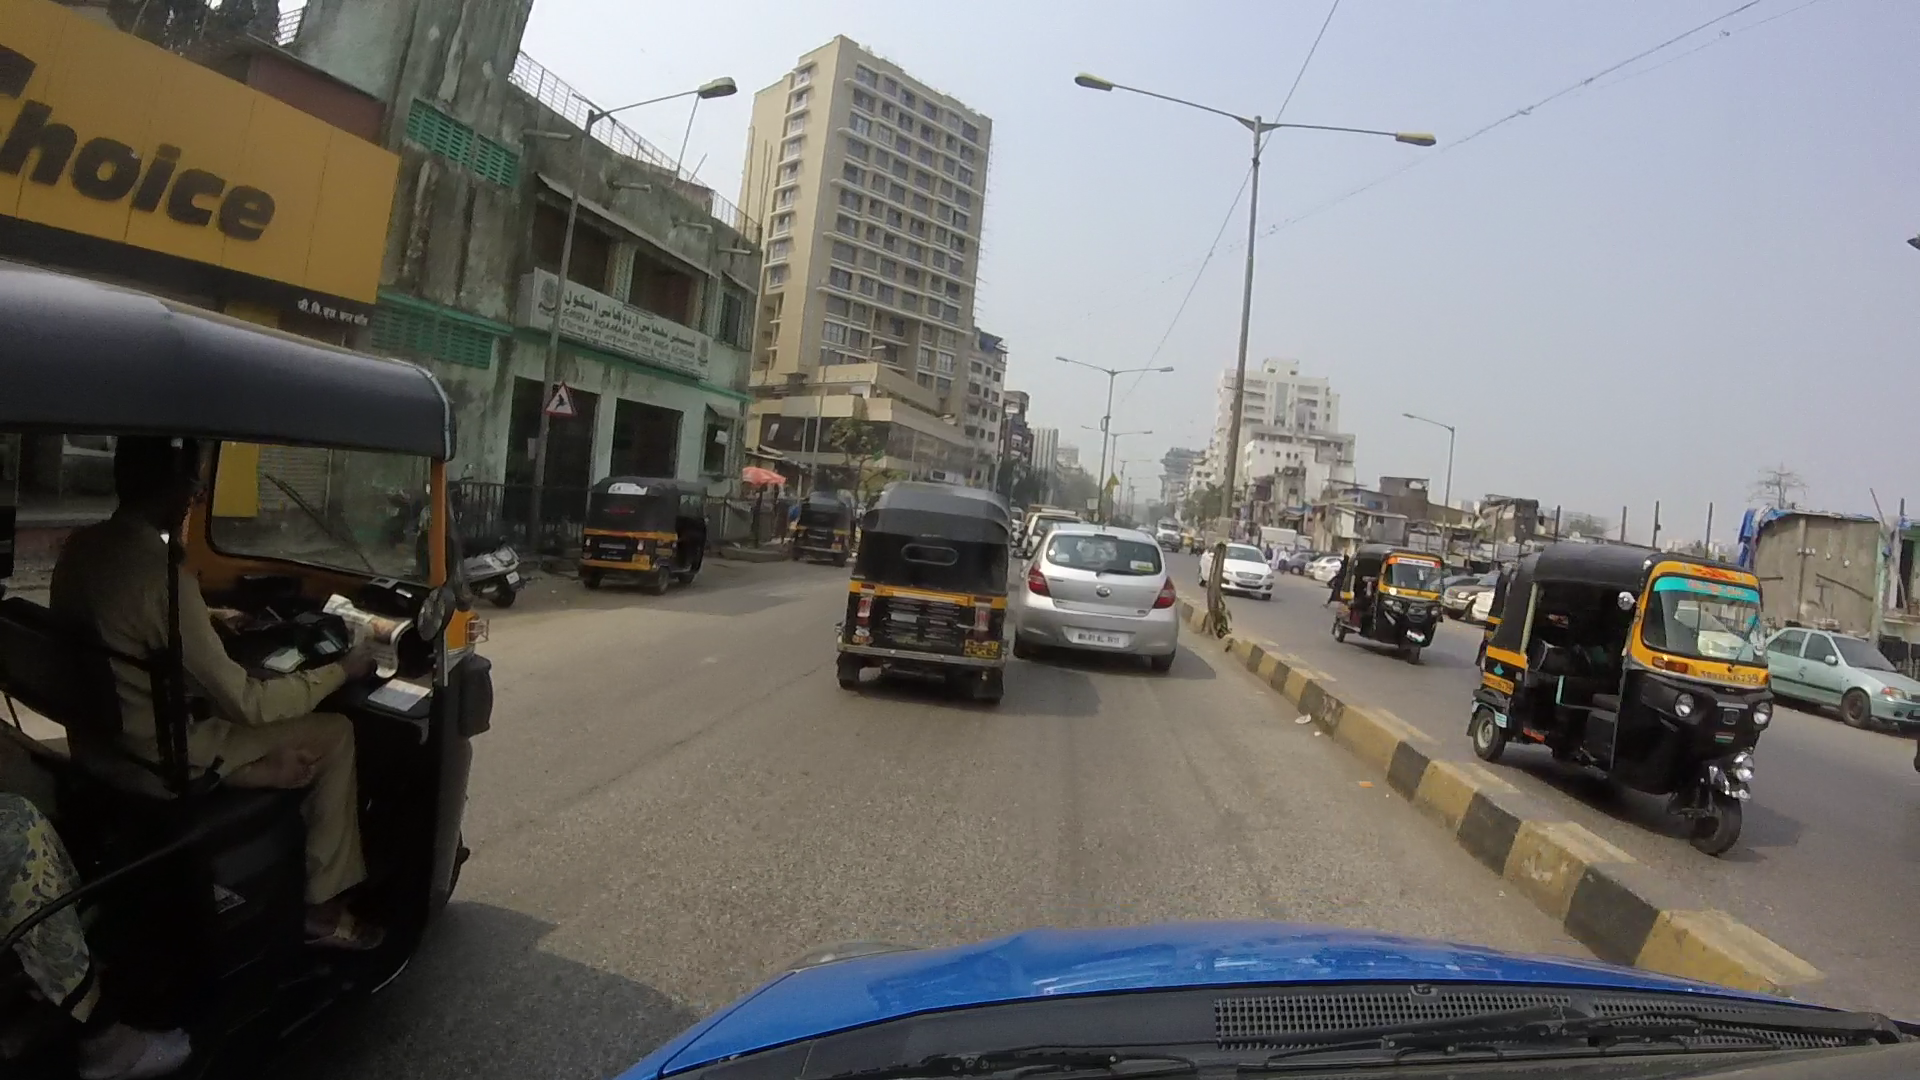car: (1019, 520, 1182, 669), (1763, 624, 1920, 727), (1199, 535, 1275, 597)
rickshaw: (25, 272, 465, 1065), (1478, 533, 1753, 860), (843, 480, 1025, 704), (568, 465, 711, 595), (1328, 539, 1447, 657)
